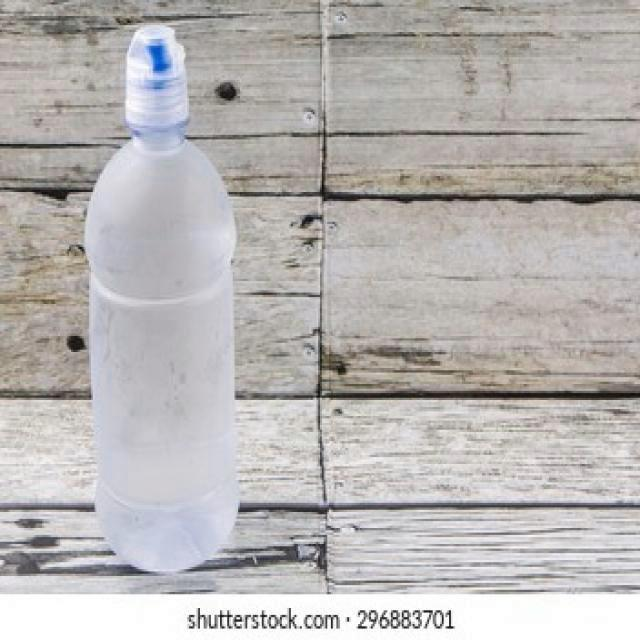bottle: (85, 25, 240, 573)
